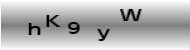9: (67, 21, 80, 34)
K: (44, 14, 61, 28)
W: (119, 7, 143, 22)
h: (27, 22, 42, 36)
y: (95, 27, 111, 41)
